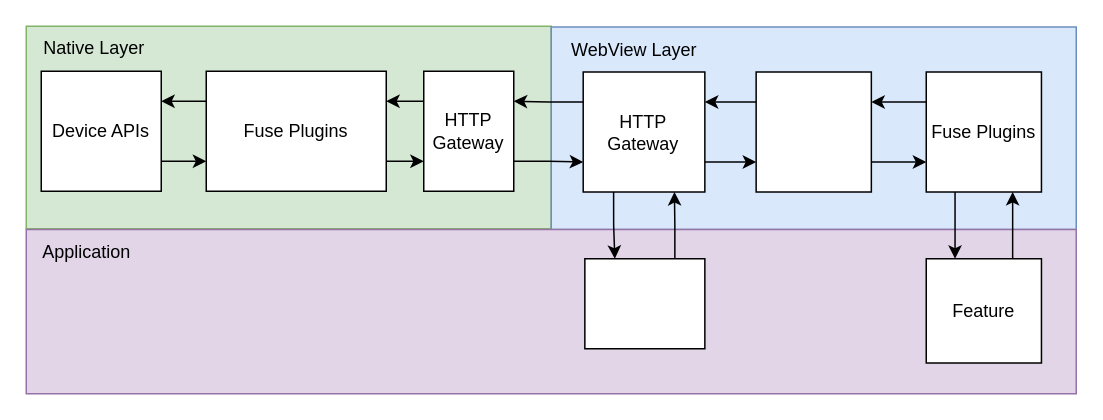
Image size: 1103x420. Some labels were removed from this diagram. The box of each missing label's shape, as (x1, y1, x2, y2) in pixels:
FuseAPI: (755, 70, 871, 192)
Web Assets: (583, 257, 705, 349)
